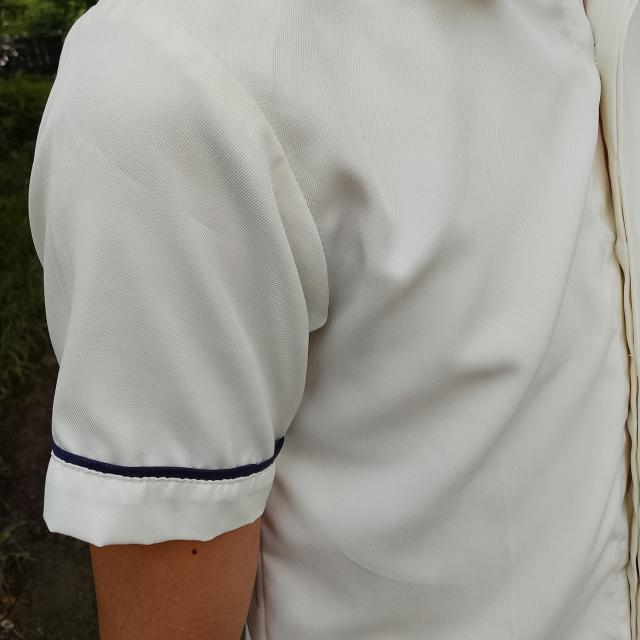education_male_uniform: (7, 2, 625, 603)
